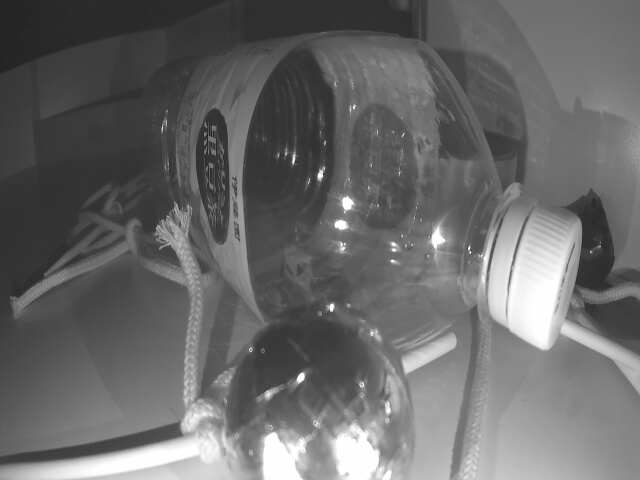Dead: (563, 199, 618, 271)
Live: (225, 305, 415, 480)
Point: (30, 94, 177, 160)
